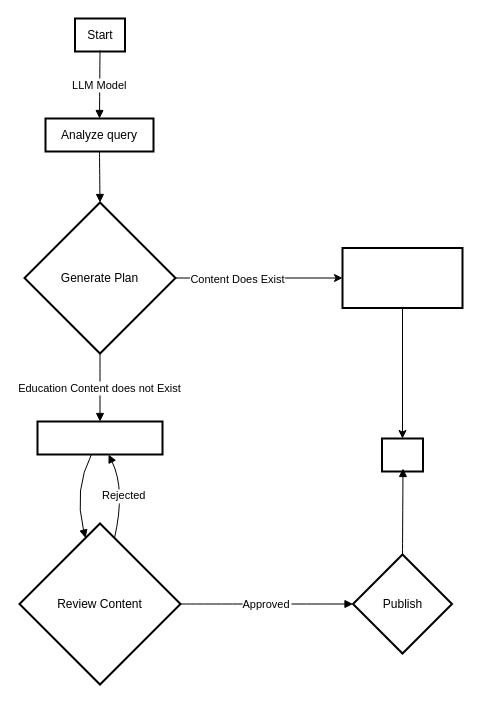
Image size: 480x702. Some labels were removed from this diagram. Each missing label, with the centre of its shape:
"Content is fetched from Cahce" belongs at pixel 402 277.
"Create Content" belongs at pixel 99 437.
"End" belongs at pixel 402 454.
